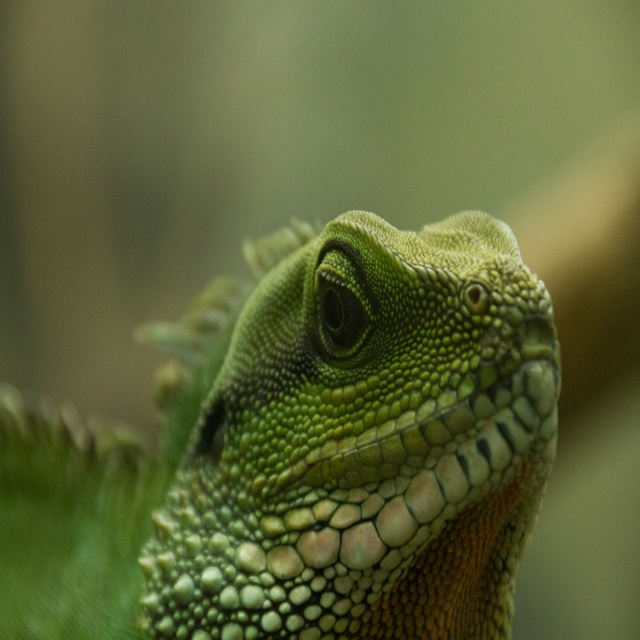Lizard: (0, 210, 561, 640)
